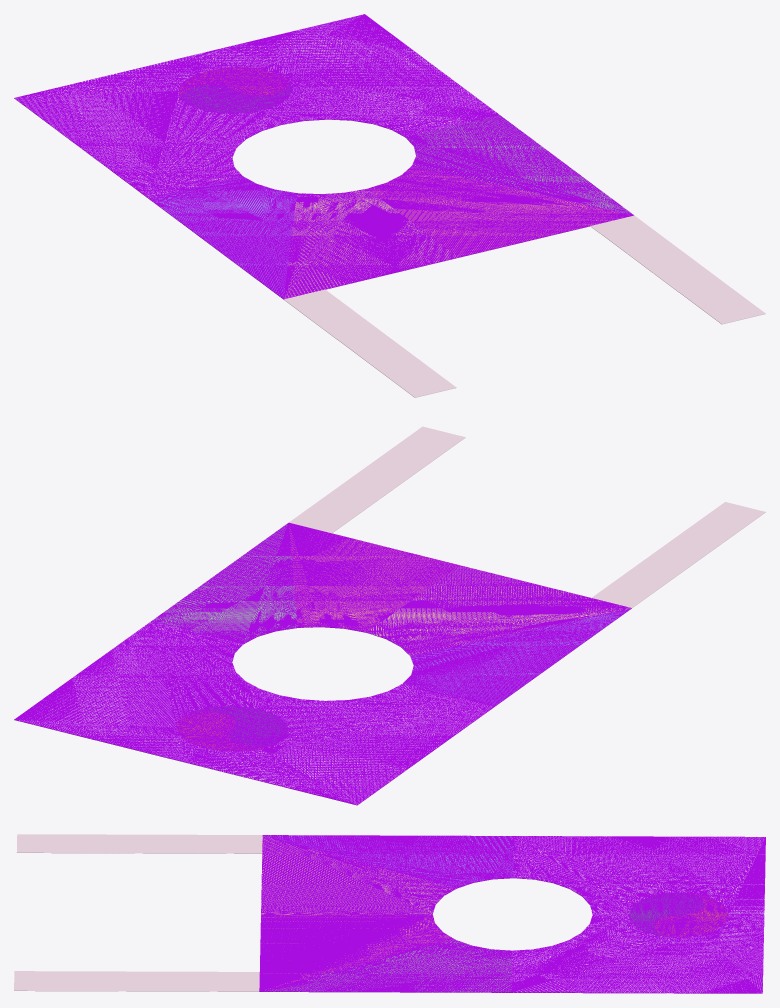
The model's file is kite_10.dae.
3 views of the same model, one above another, from view 1: azimuth 30°, elevation 25°; view 2: azimuth 150°, elevation 25°; view 3: azimuth 270°, elevation 25° (orthographic). The views are drawn at different scales.
Parts seen in each view (by area): view 1: Body.005, Body, Body.008, Body.006, Body.004, group_2, group_0.002, Body.003, group_3; view 2: Body.005, Body.008, Body, Body.004, Body.006, group_2, group_0.002, Body.003, group_3; view 3: Body.005, Body, Body.008, Body.006, Body.004, group_2, group_0.002, Body.003, group_3, Body.001.
Boxes of the visible parts, left/top/right/bottom form: Body.005: left=14, top=14, right=499, bottom=198; Body: left=367, top=165, right=633, bottom=257; Body.008: left=283, top=189, right=458, bottom=299; Body.006: left=406, top=115, right=633, bottom=215; Body.004: left=149, top=176, right=296, bottom=298; group_2: left=590, top=215, right=765, bottom=324; group_0.002: left=284, top=289, right=456, bottom=397; Body.003: left=181, top=81, right=292, bottom=113; group_3: left=178, top=67, right=289, bottom=98; Body.005: left=14, top=621, right=494, bottom=804; Body.008: left=367, top=565, right=631, bottom=655; Body: left=288, top=522, right=459, bottom=632; Body.004: left=403, top=608, right=631, bottom=706; Body.006: left=151, top=523, right=297, bottom=643; group_2: left=289, top=426, right=465, bottom=533; group_0.002: left=592, top=502, right=765, bottom=607; Body.003: left=188, top=705, right=288, bottom=746; group_3: left=176, top=711, right=275, bottom=751; Body.005: left=511, top=836, right=765, bottom=993; Body: left=259, top=913, right=455, bottom=991; Body.008: left=261, top=835, right=456, bottom=913; Body.006: left=260, top=939, right=511, bottom=992; Body.004: left=263, top=835, right=514, bottom=888; group_2: left=14, top=971, right=259, bottom=991; group_0.002: left=17, top=834, right=262, bottom=853; Body.003: left=628, top=892, right=703, bottom=936; group_3: left=653, top=892, right=728, bottom=937; Body.001: left=259, top=991, right=756, bottom=993.
Bounding box in the file's own units: 9.54 × 19.03 × 0.00852.
